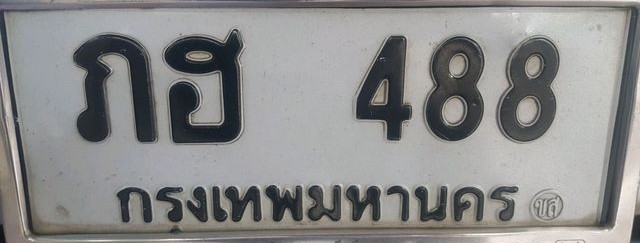txt27: (69, 30, 160, 146)
txt39: (161, 25, 249, 147)
